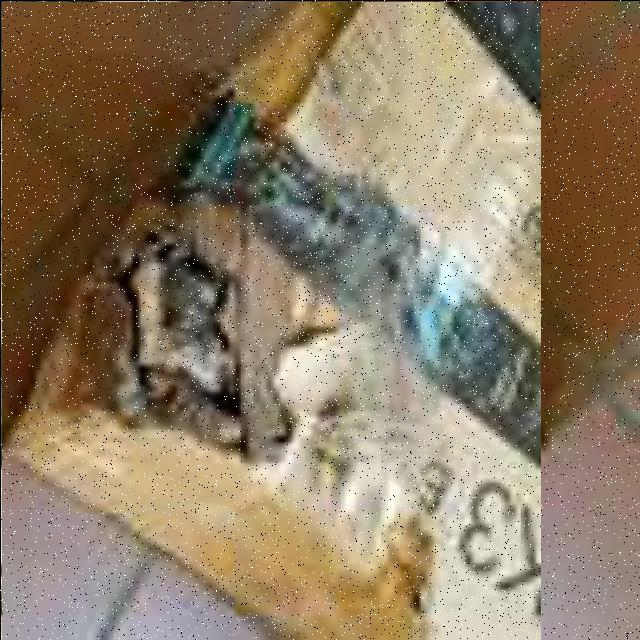defect: (1, 1, 540, 640)
